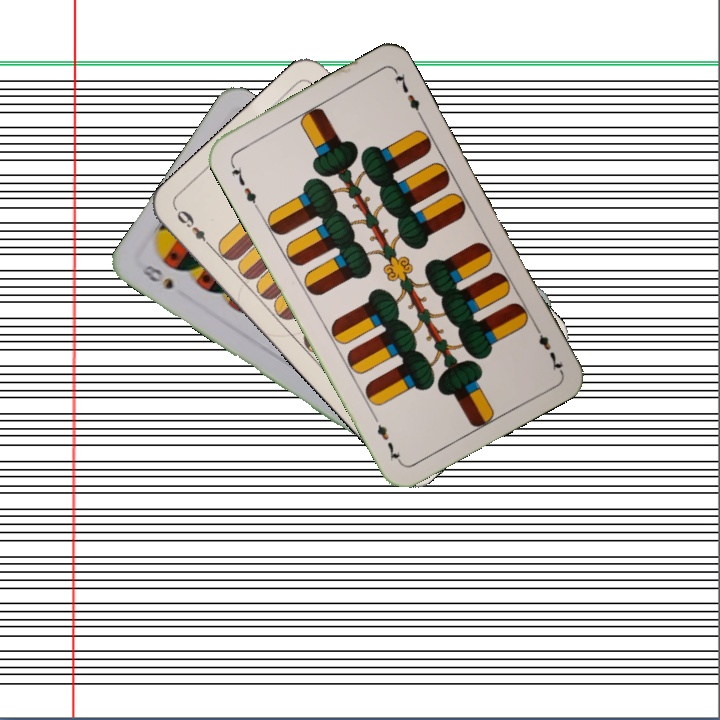E7: (529, 320, 566, 374), (226, 157, 260, 212)
E9: (171, 205, 216, 252)
S8: (135, 261, 176, 292)
